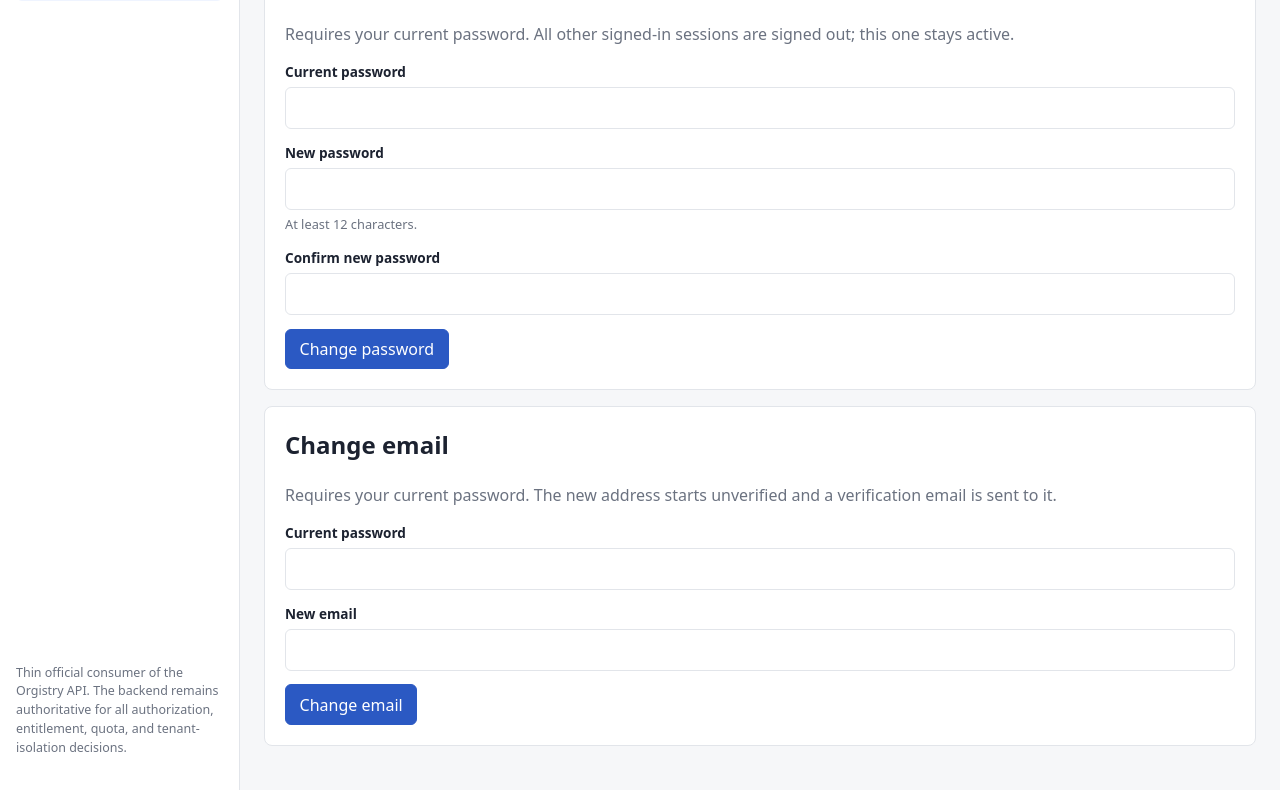
it: change email › submits the real backend contract, refreshes the user, and shows the new state
(page scrolled)
Type "original-password-123" into the 2nd password field labelled "Current password" at (760, 569), box [285,548,1235,590]
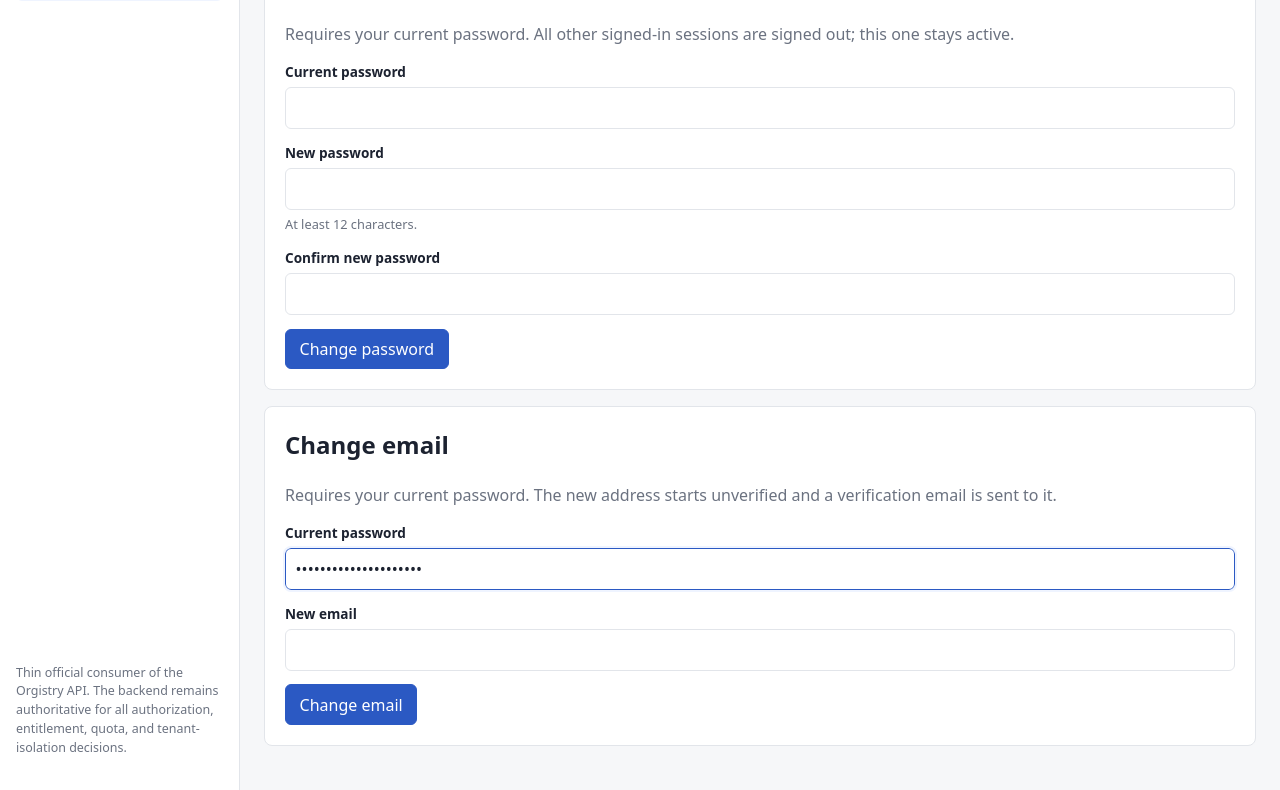
Type "renamed@example.com" into the field labelled "New email" at (760, 650), box [285,629,1235,671]
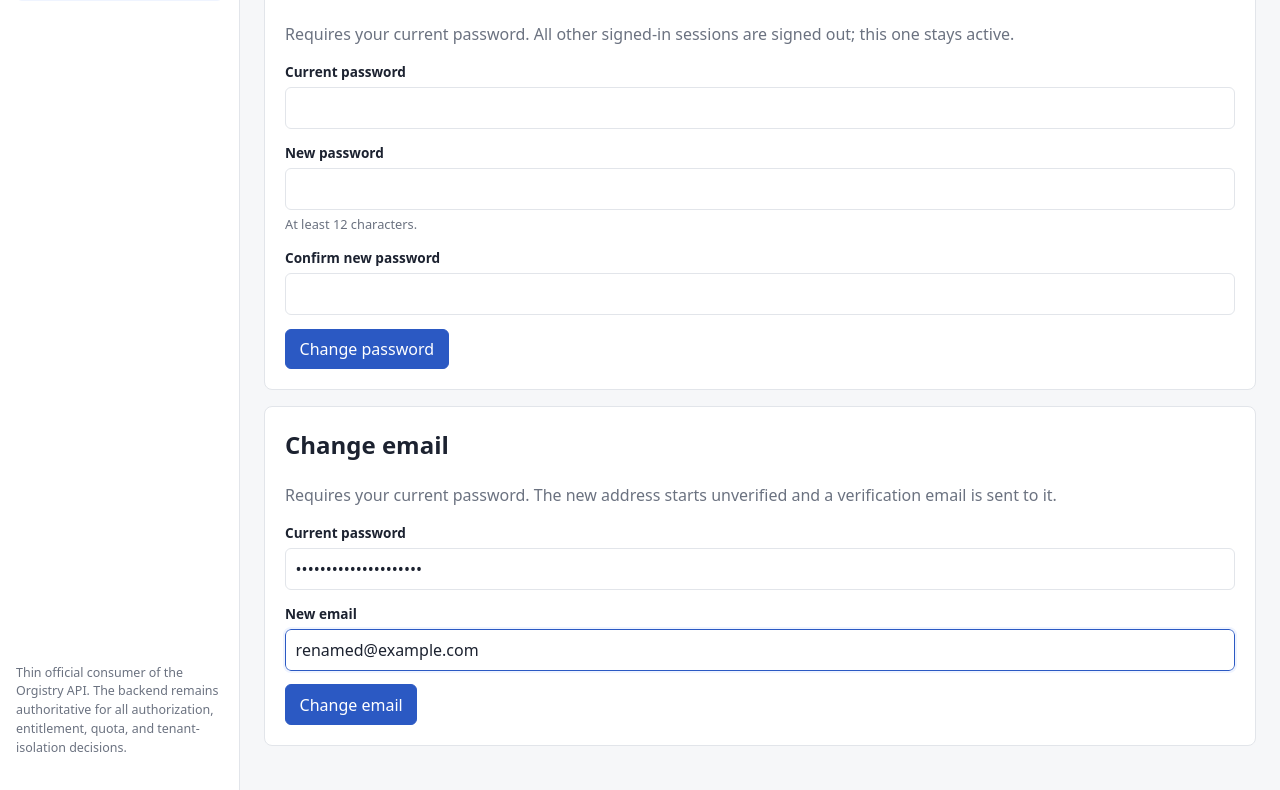
Click the button "Change email" at (351, 705), box [285,684,417,725]
(page scrolled)
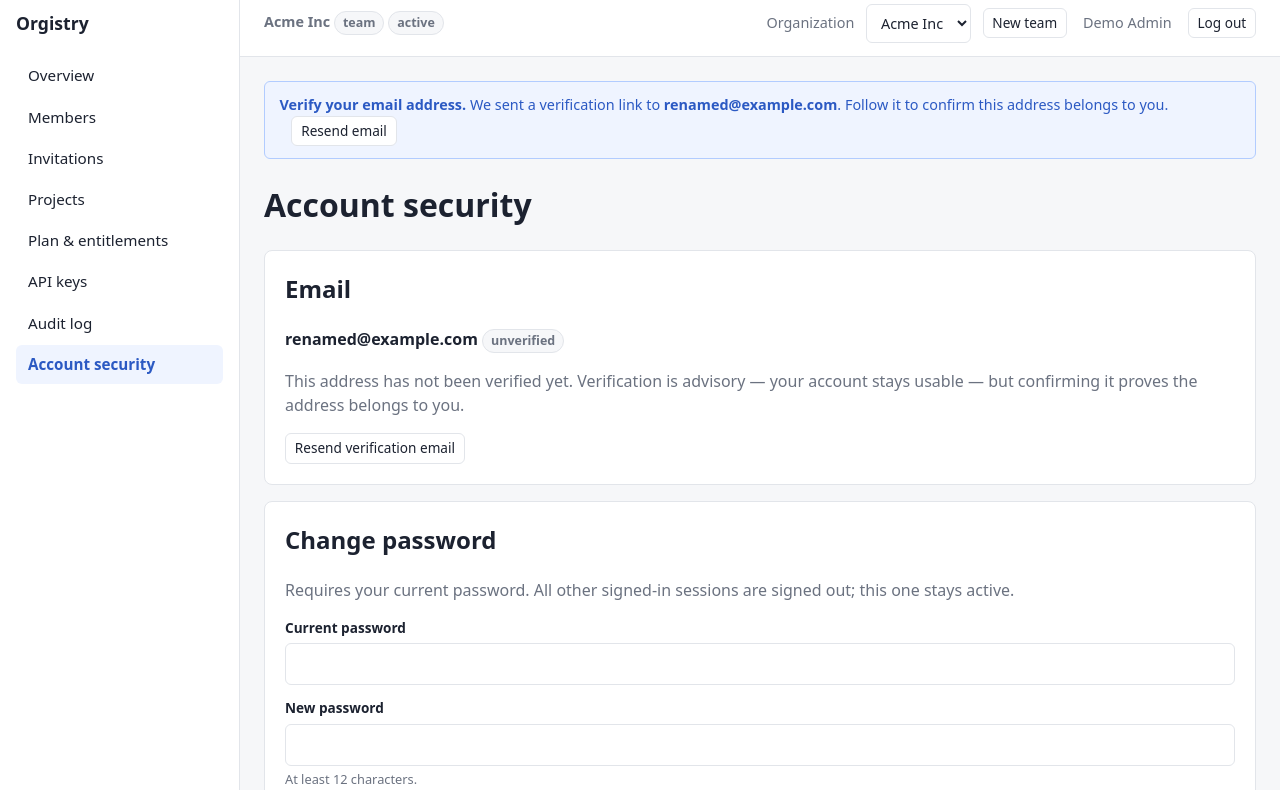
Result: the text "unverified" is shown at [482,329,564,353]
